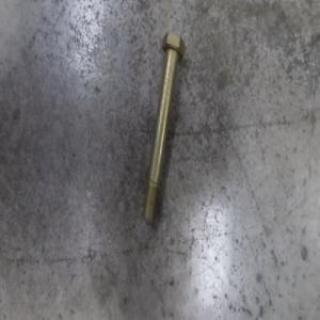Bolttrack_idkeyframe: (140, 30, 184, 224)
